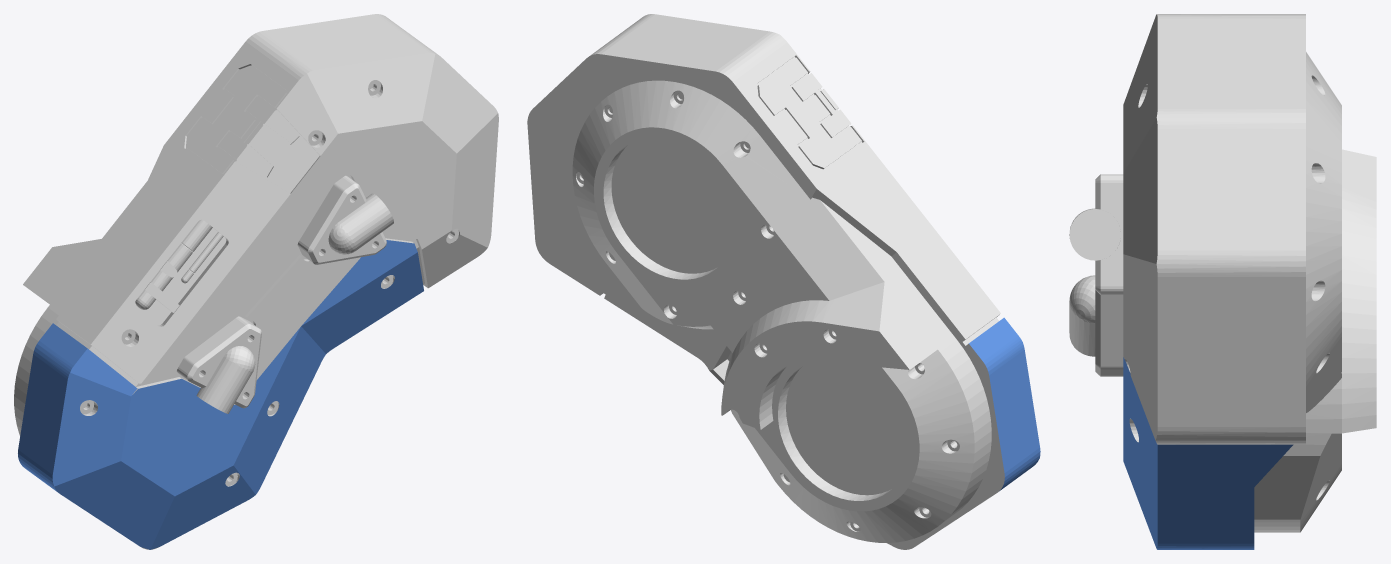
File: right_thigh.dae
3 renders of one model, left to right at view 1: azimuth 30°, elevation 25°; view 2: azimuth 150°, elevation 25°; view 3: azimuth 270°, elevation 25°, orthographic. The views are drawn at different scales.
Parts seen in each view (by area): view 1: right_thigh; view 2: right_thigh; view 3: right_thigh.
Part boxes in pixels (x1,y1,x2,y2): right_thigh: [14, 14, 498, 549]; right_thigh: [527, 14, 1040, 549]; right_thigh: [1069, 14, 1376, 549].
Bounding box in the file's own units: 208 × 89.04 × 196.
